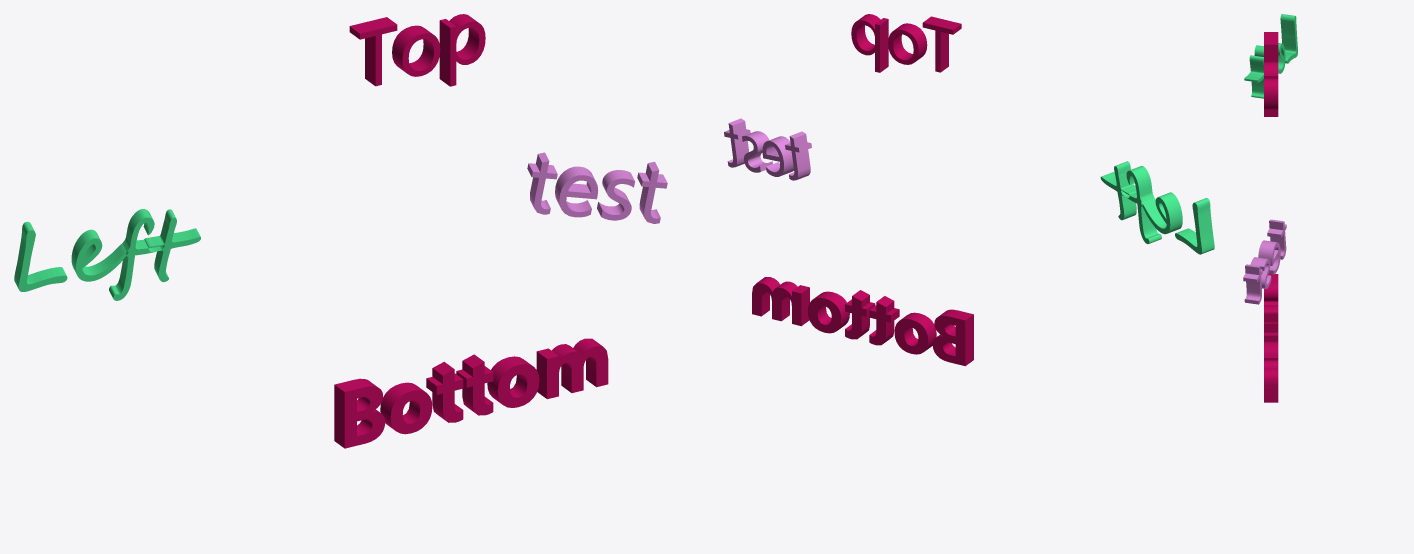
3 views of the same model, side by side, from view 1: azimuth 30°, elevation 25°; view 2: azimuth 150°, elevation 25°; view 3: azimuth 270°, elevation 25° (orthographic). The views are drawn at different scales.
Visible parts, largest first — view 1: node_id15, node_id18, node_id12, node_id9; view 2: node_id15, node_id18, node_id12, node_id9; view 3: node_id9, node_id15, node_id18, node_id12.
Part boxes in pixels (box(x1,y1,x2,y2)): node_id15: box(334, 338, 608, 448); node_id18: box(14, 209, 200, 300); node_id12: box(349, 14, 485, 86); node_id9: box(527, 152, 667, 223); node_id15: box(752, 277, 973, 366); node_id18: box(1100, 161, 1214, 254); node_id12: box(851, 14, 961, 72); node_id9: box(724, 118, 811, 180); node_id9: box(1243, 219, 1286, 304); node_id15: box(1264, 274, 1278, 402); node_id18: box(1244, 14, 1297, 98); node_id12: box(1264, 32, 1278, 116).
Size of the model in its own units: 0.5429 by 0.512 by 0.1693.
